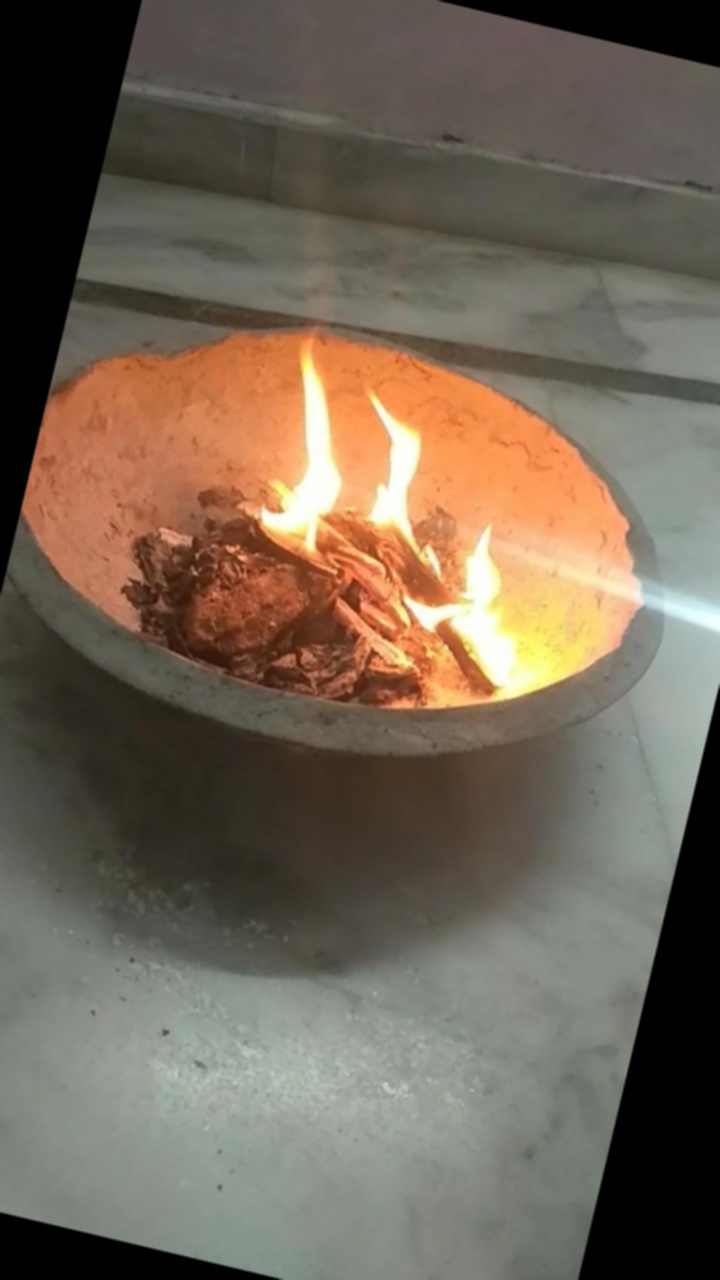fire: (242, 338, 541, 617)
